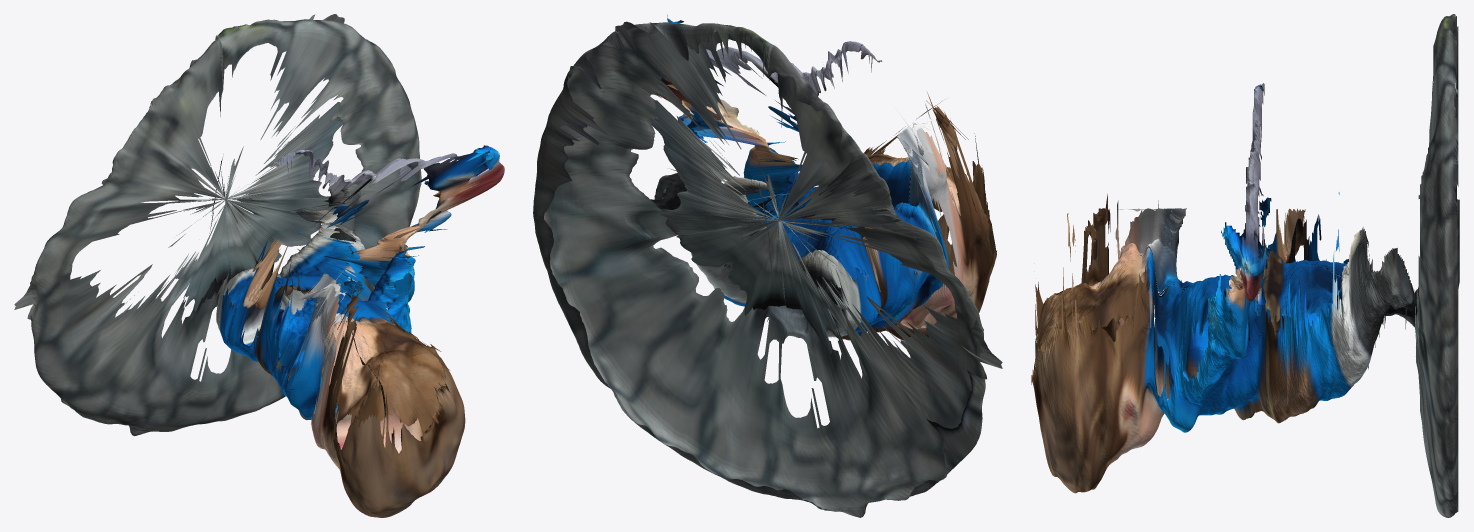
The picture shows the model from 3 angles, left to right: view 1: azimuth 30°, elevation 25°; view 2: azimuth 150°, elevation 25°; view 3: azimuth 270°, elevation 25°; orthographic projection. The views are drawn at different scales.
Visible parts, largest first — view 1: geometry_0; view 2: geometry_0; view 3: geometry_0.
Part boxes in pixels (x1=…): geometry_0: x1=14, y1=14, x2=504, y2=517; geometry_0: x1=533, y1=15, x2=1002, y2=517; geometry_0: x1=1031, y1=14, x2=1459, y2=517.
Size of the model in its own units: 1.29 by 1.19 by 0.954.
Materials: 1 (1 with a texture image).
